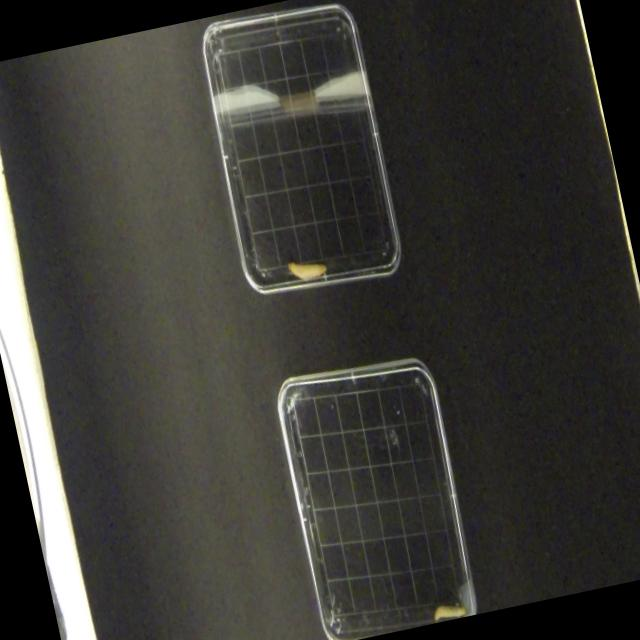larva: (286, 253, 328, 283), (429, 593, 468, 623)
